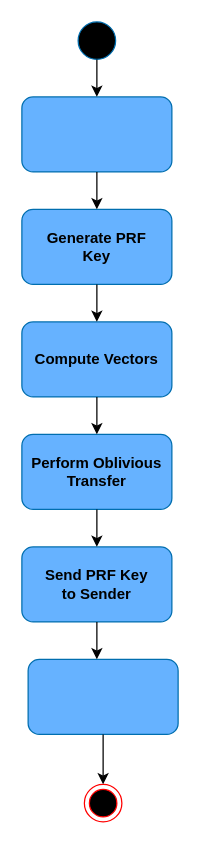
Some shapes in this 200 by 844 pixel diagram are drawn without their labels. The shapes that lost their labels are listed below. From the top down, each one's centre as x and y in pixels, then its label:
At [96,134]: "Initialize Binary Matrix".
At [102,696]: "Evaluate OPRF values".
